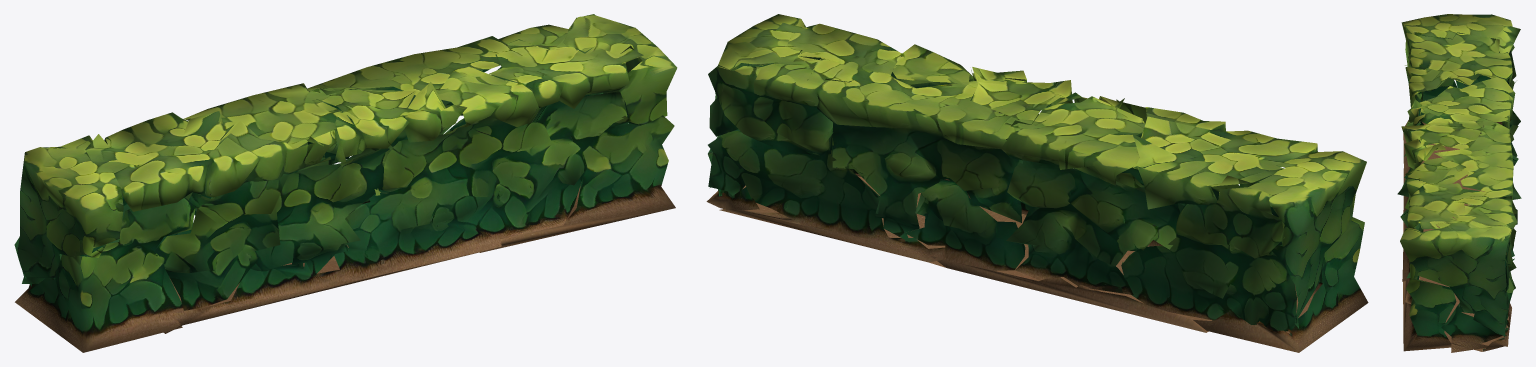
3 views of the same model, side by side, from view 1: azimuth 30°, elevation 25°; view 2: azimuth 150°, elevation 25°; view 3: azimuth 270°, elevation 25° (orthographic). The views are drawn at different scales.
Visible parts, largest first — view 1: quad; view 2: quad; view 3: quad.
Boxes of the visible parts, box(x1,y1,x2,y2) form: quad: box(14, 14, 677, 352); quad: box(706, 14, 1368, 352); quad: box(1397, 14, 1521, 352).
Bounding box in the file's own units: 400 × 105 × 93.19.
Materials: 1 (1 with a texture image).
